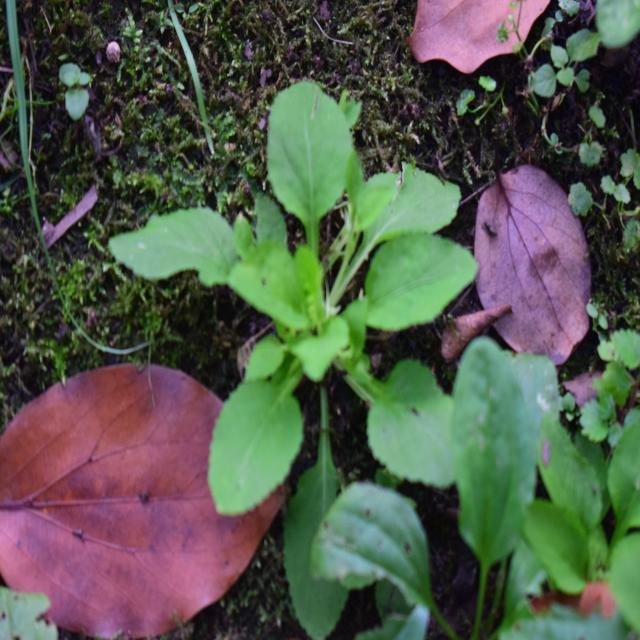Viola: (155, 100, 458, 497)
